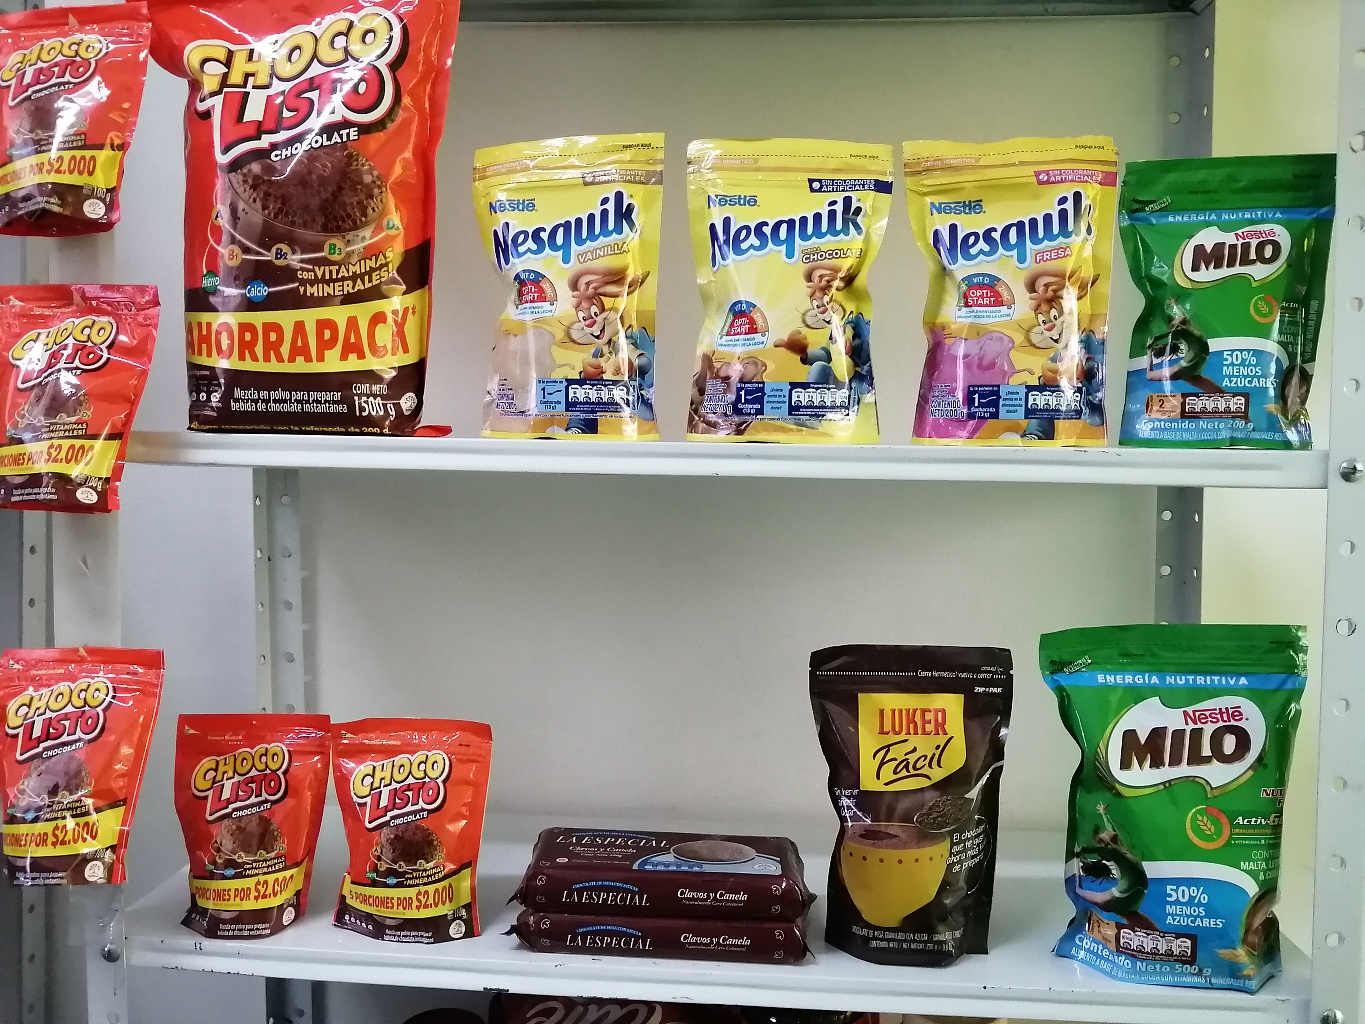COL0170103DYP1,500: (155, 0, 472, 447)
COL0170205DYP20000: (1121, 138, 1340, 455)
COL0170205DYP50000: (1034, 605, 1320, 1006)
COL0170303DYP20000: (669, 125, 907, 437)
COL0170305DYP20000: (887, 129, 1123, 442)
COL0170306DYP20000: (463, 123, 680, 440)
